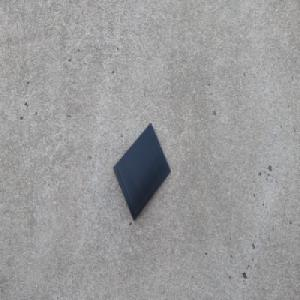PlasticPart: (111, 121, 171, 221)
